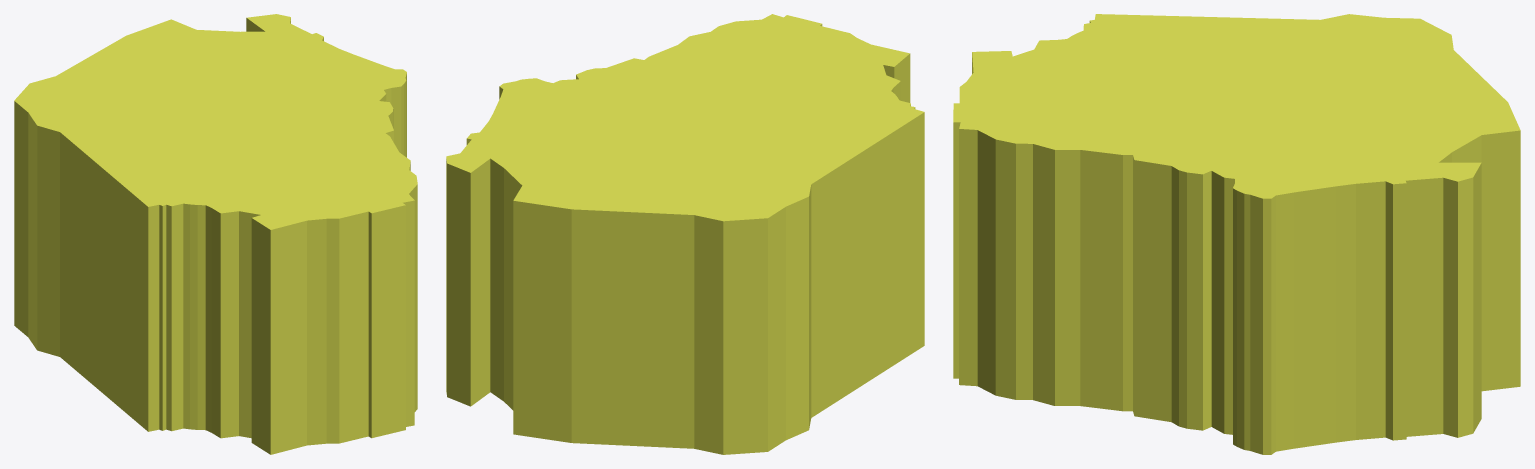
File: perth_amboy.glb
The picture shows the model from 3 angles, left to right: view 1: azimuth 30°, elevation 25°; view 2: azimuth 150°, elevation 25°; view 3: azimuth 270°, elevation 25°; orthographic projection. The views are drawn at different scales.
Parts seen in each view (by area): view 1: Plane.009; view 2: Plane.009; view 3: Plane.009.
Part boxes in pixels (x1,y1,x2,y2): Plane.009: (14,14,417,454); Plane.009: (446,14,924,454); Plane.009: (953,14,1520,454).
Bounding box in the file's own units: 0.4514 × 0.292 × 0.5859.
